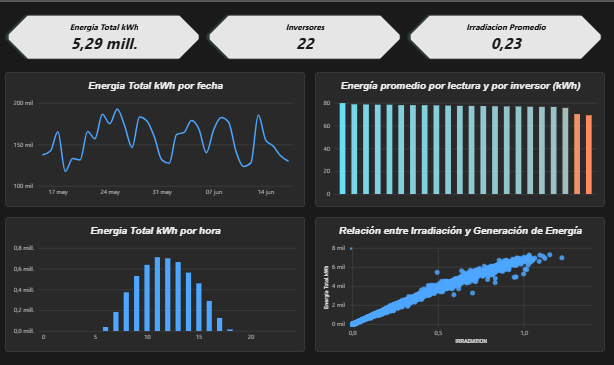

This screenshot's page, from the dashboard's own definition file:
{"tool":"powerbi","page":{"name":"Resumen de generación","canvas":[1920,1080],"ordinal":0},"visuals":[{"type":"cardVisual","fields":{"Data":["Generacion_P1.Energia Total kWh","Generacion_P1.Inversores","Clima_P1.Irradiacion Promedio"]},"box":[40,20,1200,100],"z":0},{"type":"lineChart","title":"Energia Total kWh por fecha","fields":{"Category":["Generacion_P1.DATE"],"Y":["Generacion_P1.Energia Total kWh"]},"box":[40,140,600,270],"z":1000},{"type":"clusteredColumnChart","title":"Energía promedio por lectura y por inversor (kWh)","fields":{"Category":["Generacion_P1.SOURCE_KEY"],"Y":["Generacion_P1.Energia Promedio por Lectura"]},"box":[660,140,580,270],"z":2000},{"type":"columnChart","title":"Energia Total kWh por hora","fields":{"Category":["Generacion_P1.HOUR_OF_DAY"],"Y":["Generacion_P1.Energia Total kWh"]},"box":[40,430,600,270],"z":2001},{"type":"scatterChart","title":"Relación entre Irradiación y Generación de Energía","fields":{"X":["Clima_P1.IRRADIATION"],"Y":["Generacion_P1.Energia Total kWh"]},"box":[660,430,580,270],"z":2002}]}

Visuals, with their boxes on the page's 1920x1080 design canvas (x1, y1, x2, y2). These are canvas units, not pixel positions in the 614x365 screenshot, which may show the page scaled, cropped or inside an application window:
cardVisual - Generacion_P1.Energia Total kWh x Generacion_P1.Inversores: [40,20,1240,120]
"Energia Total kWh por fecha" lineChart: [40,140,640,410]
"Energía promedio por lectura y por inversor (kWh)" clusteredColumnChart: [660,140,1240,410]
"Energia Total kWh por hora" columnChart: [40,430,640,700]
"Relación entre Irradiación y Generación de Energía" scatterChart: [660,430,1240,700]
